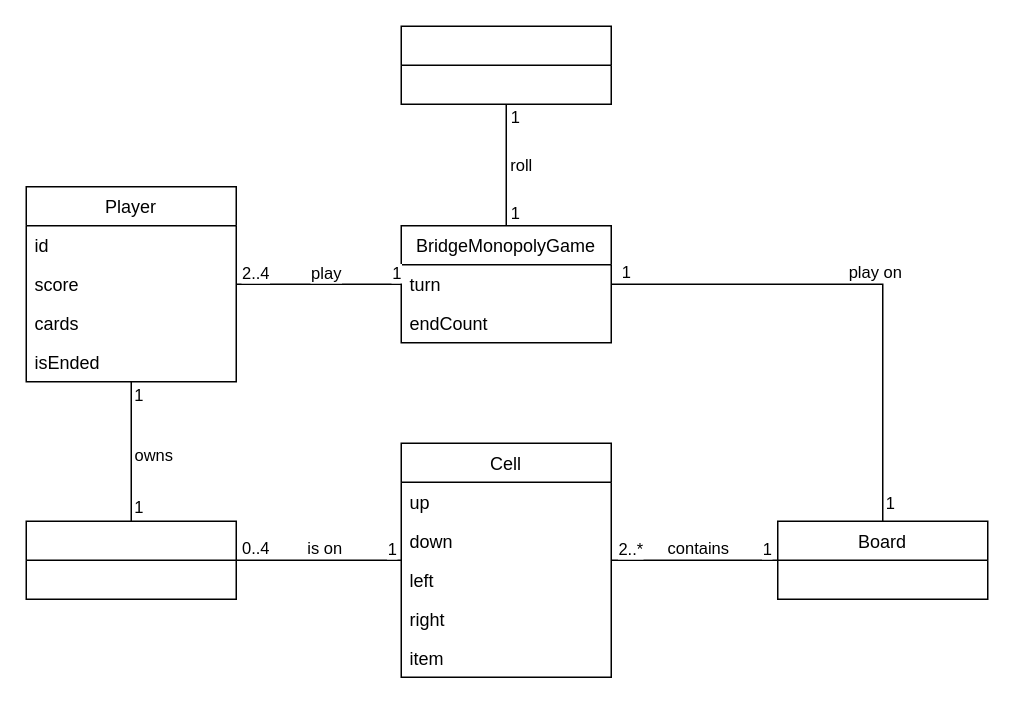
Some shapes in this 1014 by 708 pixel diagram are drawn without their labels. Here are the shapes that lost their labels. From the top down, the centre of each, then its label:
At pixel 505 64: "Dice".
At pixel 130 559: "Piece".
